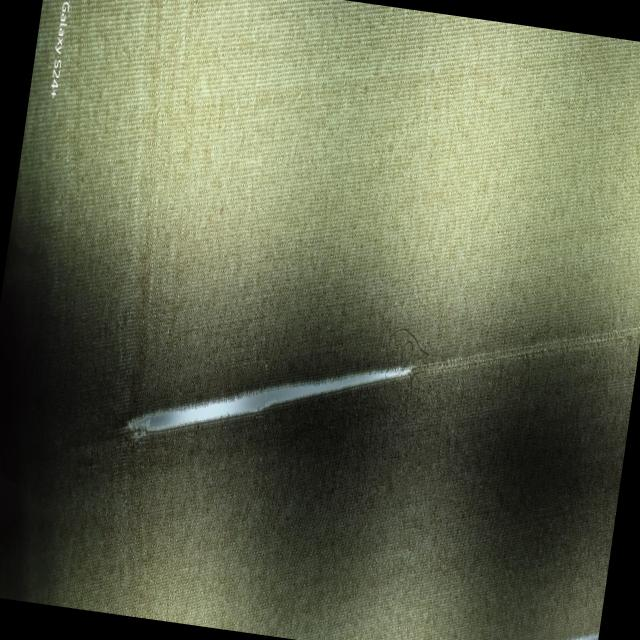Warp_Weft: (117, 241, 640, 531)
